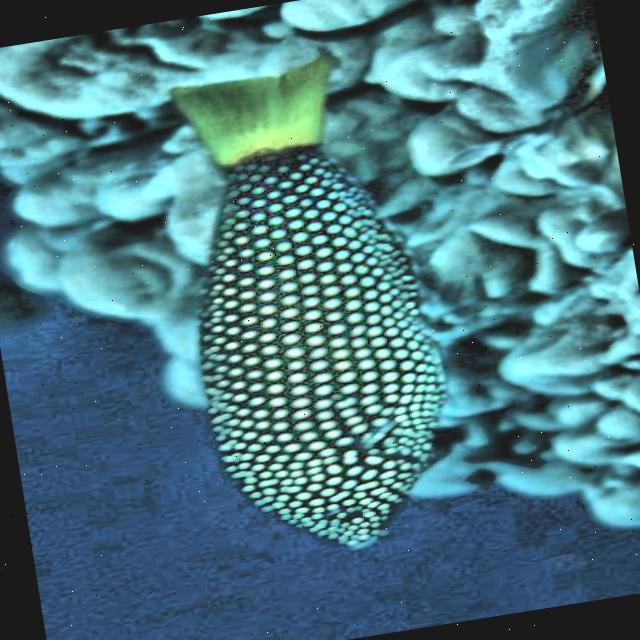fish: (152, 49, 472, 568)
